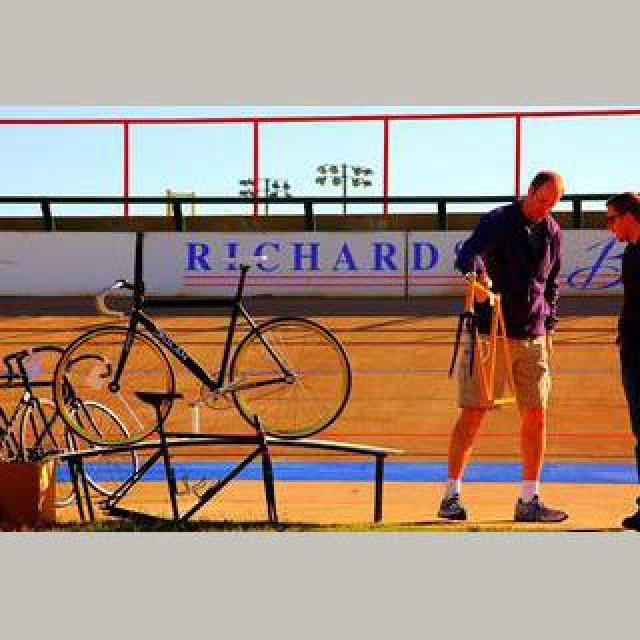MC-Bike: (436, 168, 566, 528), (598, 184, 640, 530)
Person: (52, 256, 352, 470)
